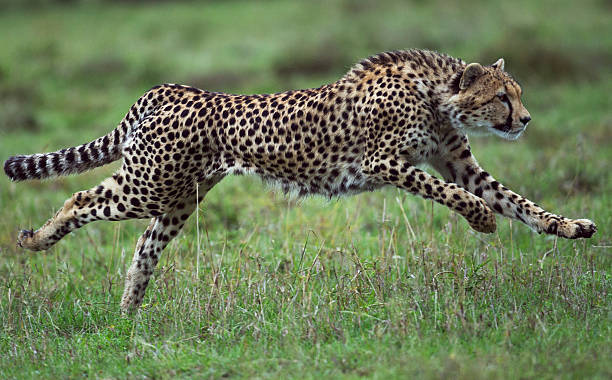cheetah: (448, 47, 537, 151)
